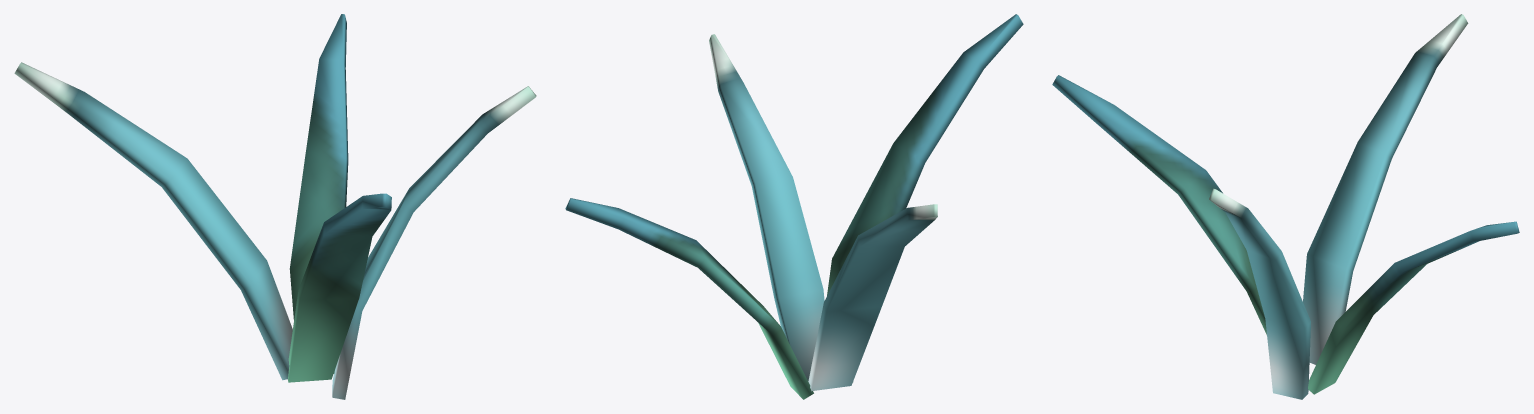
Rendered from grass_2_small.fbx.
3 renders of one model, left to right at view 1: azimuth 30°, elevation 25°; view 2: azimuth 150°, elevation 25°; view 3: azimuth 270°, elevation 25°, orthographic. The views are drawn at different scales.
Visible parts, largest first — view 1: grass_2_small; view 2: grass_2_small; view 3: grass_2_small.
Boxes of the visible parts, x1,y1,x2,y2 form: grass_2_small: (14,14,536,399); grass_2_small: (565,14,1023,399); grass_2_small: (1052,14,1519,399).
Bounding box in the file's own units: 40.29 × 31.7 × 47.57.
